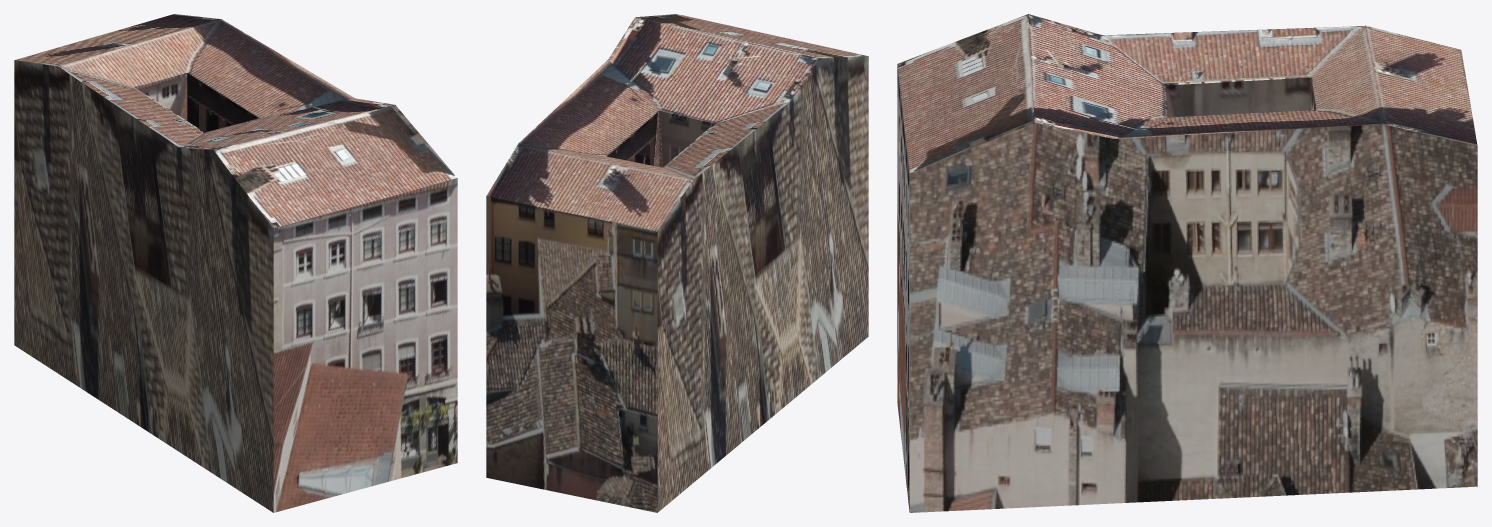
3 renders of one model, left to right at view 1: azimuth 30°, elevation 25°; view 2: azimuth 150°, elevation 25°; view 3: azimuth 270°, elevation 25°, orthographic. The views are drawn at different scales.
Parts seen in each view (by area): view 1: Z_UP; view 2: Z_UP; view 3: Z_UP.
Boxes of the visible parts, <box> form: Z_UP: <box>14,14,457,512</box>; Z_UP: <box>486,14,868,512</box>; Z_UP: <box>897,14,1477,512</box>.
Bounding box in the file's own units: 16.05 × 23.44 × 31.93.
Materials: 2 (1 with a texture image).
